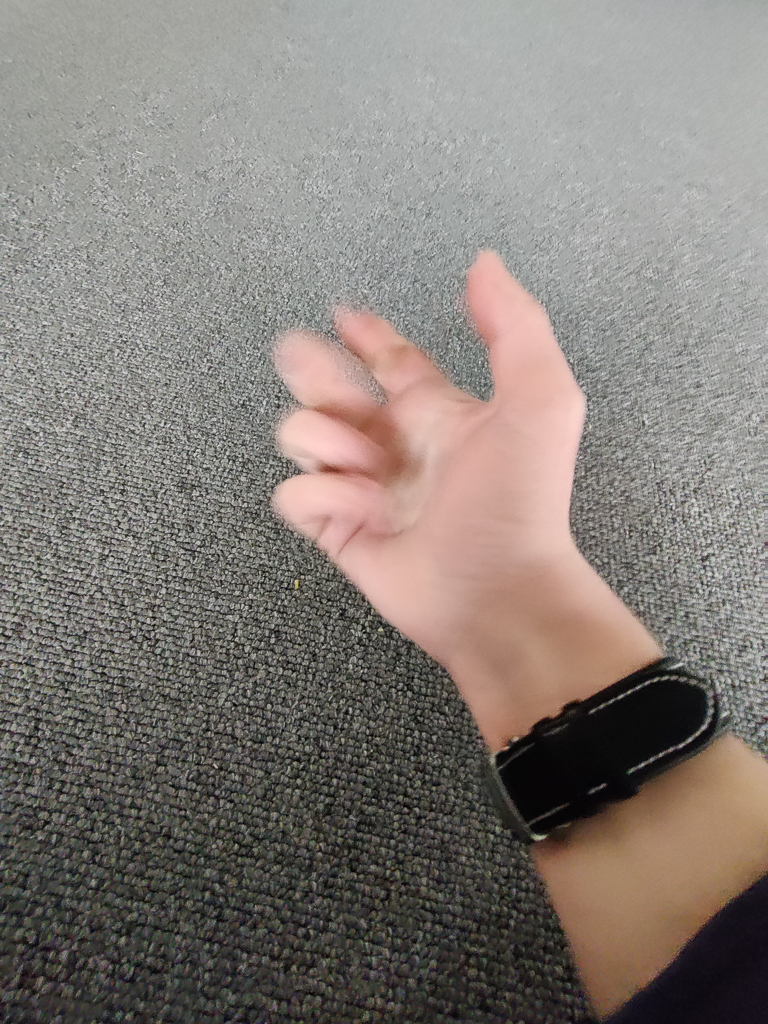Humanoid: (252, 235, 768, 1024)
